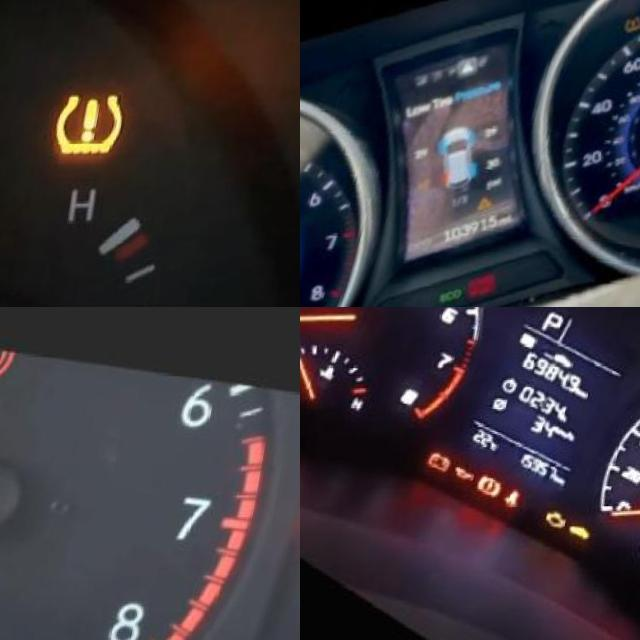High Engine Coolant Temperature: (322, 359, 350, 382)
Seat Belt: (510, 481, 537, 506)
